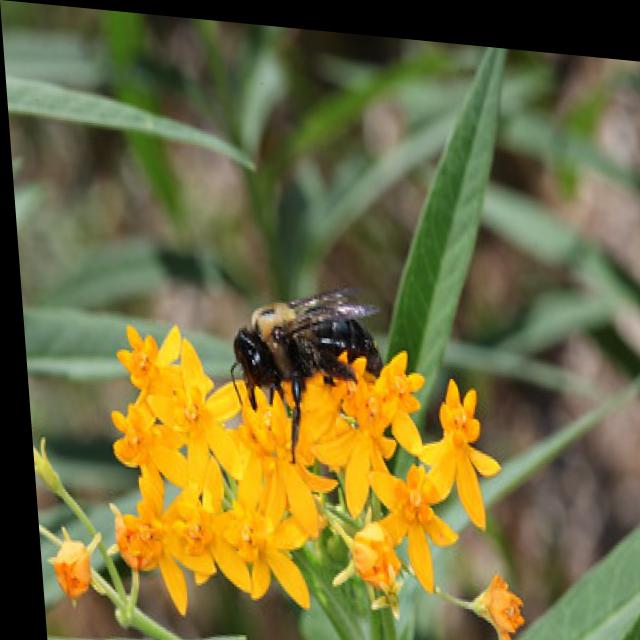Abeille: (192, 245, 406, 451)
